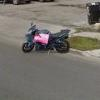Motorcycle: (12, 18, 75, 59)
